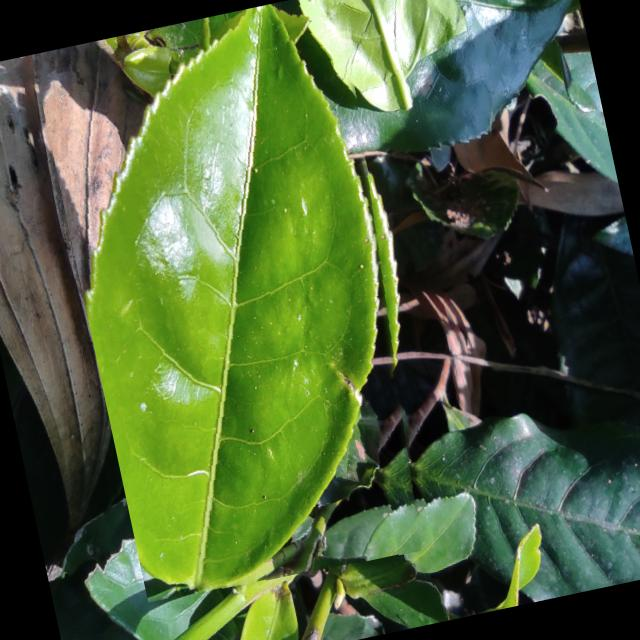Category B(2-4 days): (31, 0, 458, 607)
